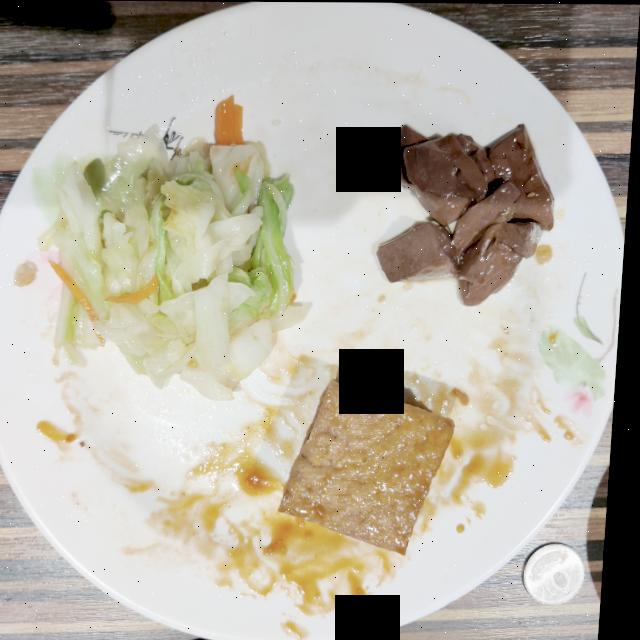cabbage: (41, 126, 312, 401)
coin: (530, 542, 592, 603)
egg tofu: (286, 381, 460, 553)
pig blood curd: (380, 124, 556, 306)
